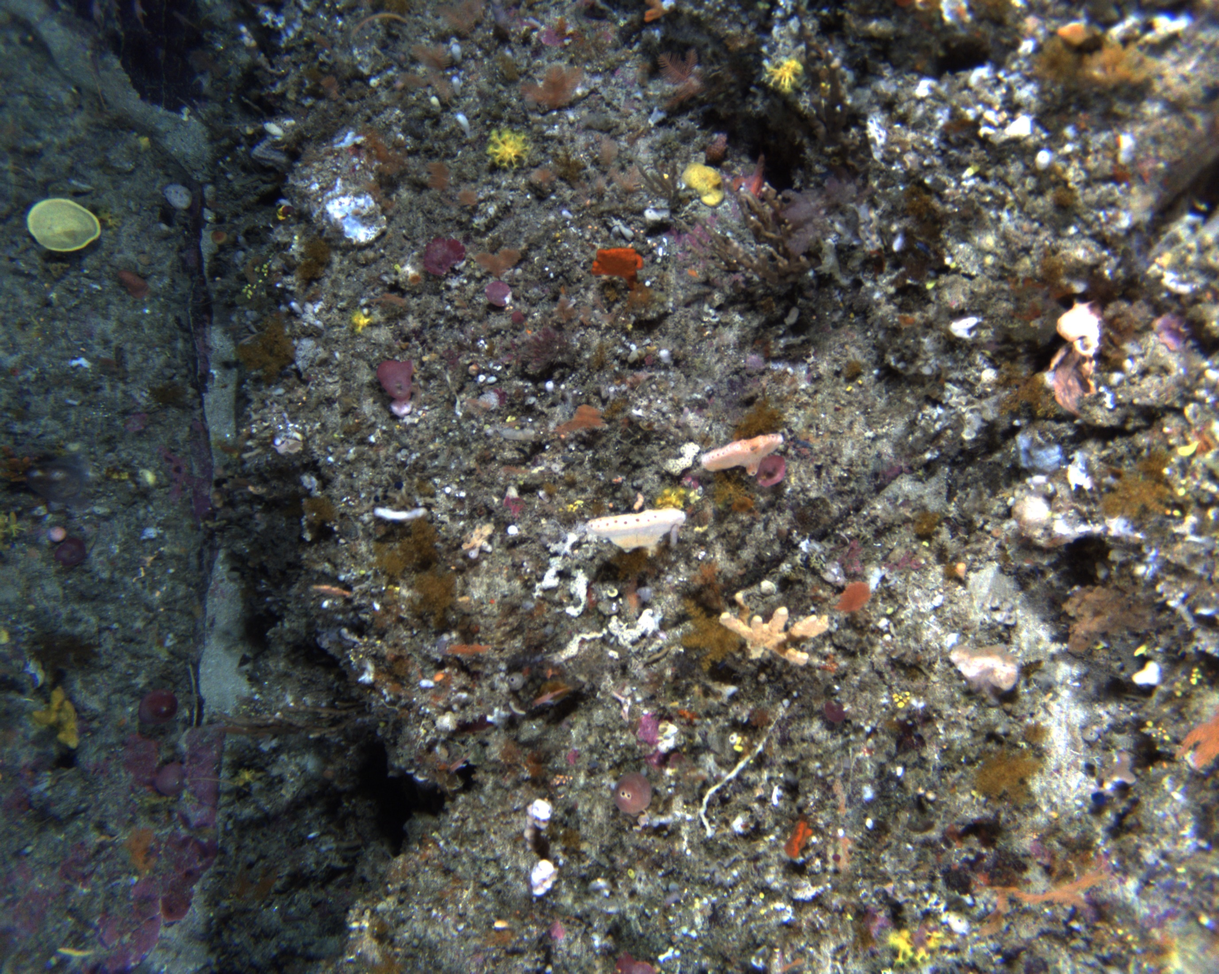Brachionichthyidae: (728, 150, 777, 207)
